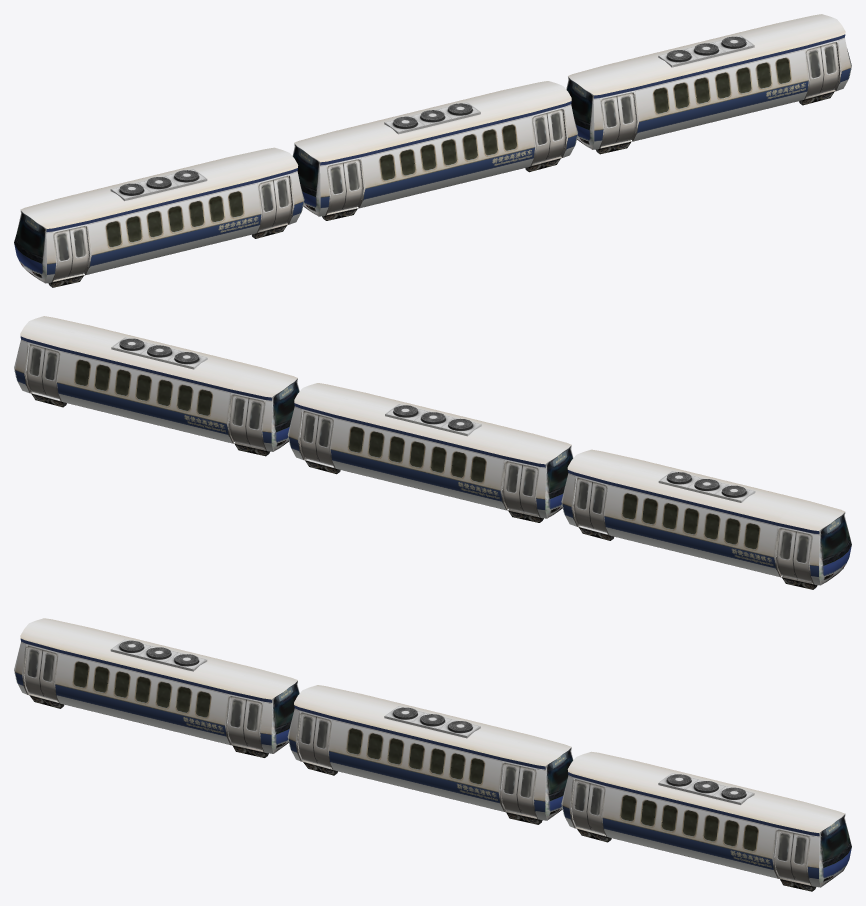
The model's file is obj_train.fbx.
The picture shows the model from 3 angles, top to bottom: view 1: azimuth 30°, elevation 25°; view 2: azimuth 150°, elevation 25°; view 3: azimuth 330°, elevation 25°; orthographic projection.
Visible parts, largest first — view 1: pCube4; view 2: pCube4; view 3: pCube4.
Part boxes in pixels (bbox=[...]): pCube4: bbox=[14, 14, 851, 287]; pCube4: bbox=[14, 316, 851, 589]; pCube4: bbox=[14, 618, 851, 891].
Bounding box in the file's own units: 108 × 8.97 × 8.36.
